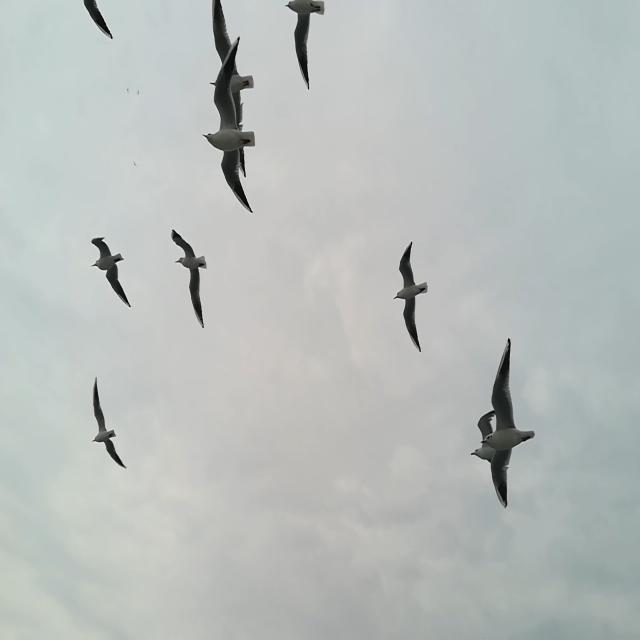bird: (200, 35, 254, 216), (481, 336, 535, 509), (208, 0, 254, 181), (392, 241, 430, 353), (284, 0, 325, 92), (171, 228, 208, 328), (471, 410, 508, 507), (92, 376, 126, 471), (90, 235, 132, 309), (83, 0, 113, 40), (133, 160, 137, 168), (136, 88, 140, 95), (126, 86, 129, 94)
